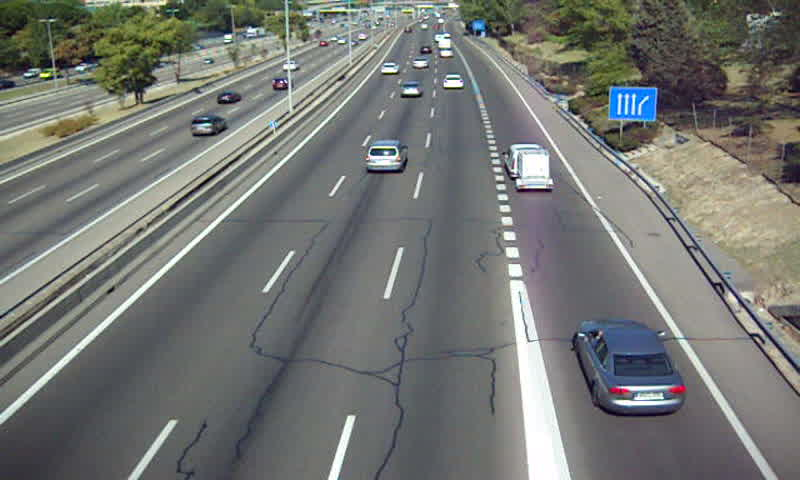car: (576, 323, 686, 414), (364, 141, 408, 174), (398, 82, 424, 98), (442, 74, 464, 90), (380, 61, 399, 76), (413, 56, 430, 70)
van: (505, 145, 545, 177)
